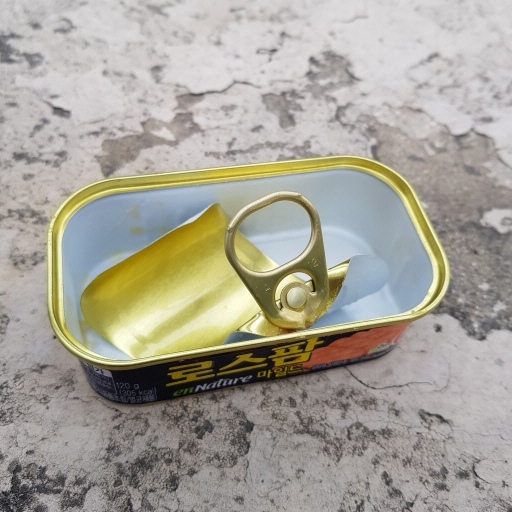Metal_2: (47, 156, 452, 412)
